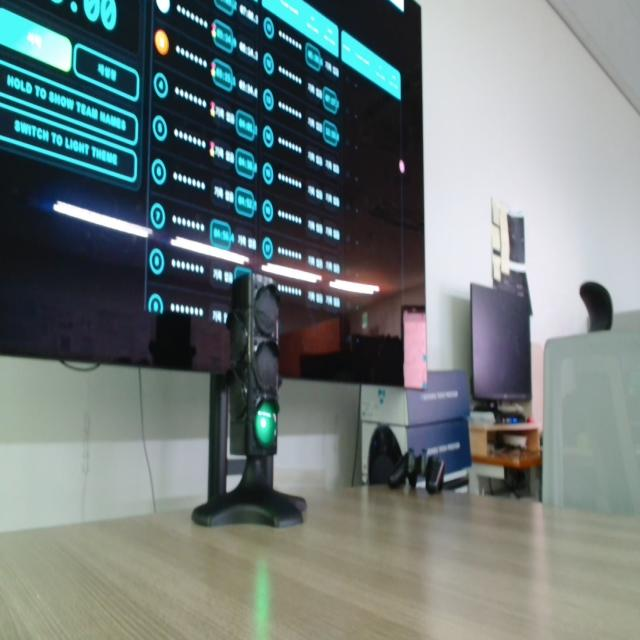green_light: (255, 401, 278, 447)
